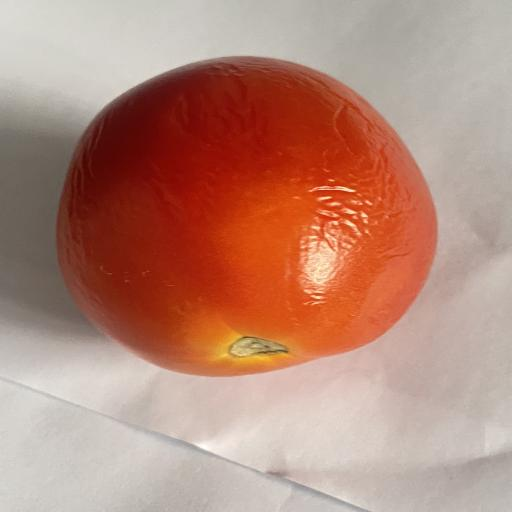spoiled: (57, 57, 436, 376)
